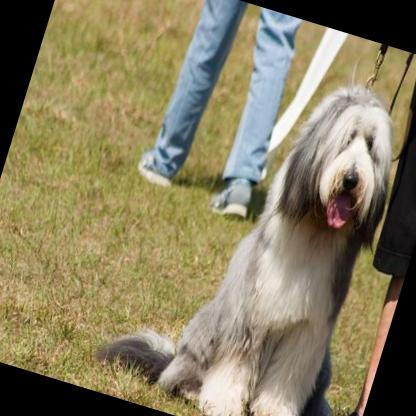Old_English_sheepdog: (86, 32, 416, 416)
